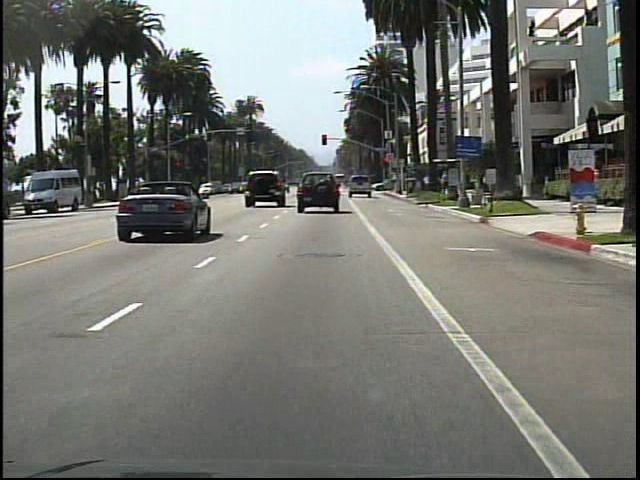person: (564, 170, 581, 210)
